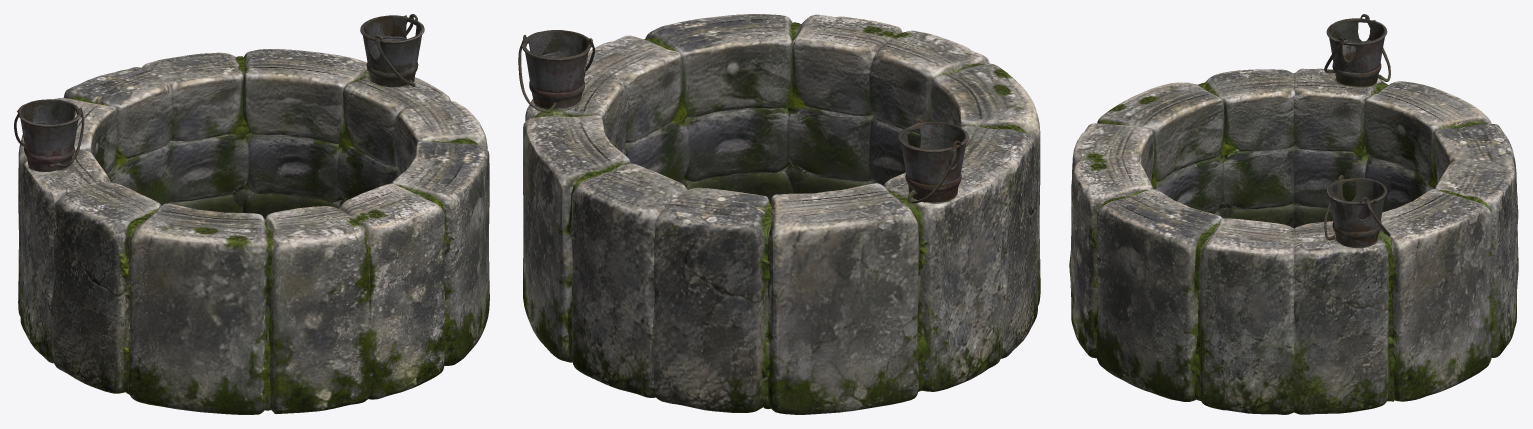
Rendered from stone-well-v1.glb.
The picture shows the model from 3 angles, left to right: view 1: azimuth 30°, elevation 25°; view 2: azimuth 150°, elevation 25°; view 3: azimuth 270°, elevation 25°; orthographic projection. The views are drawn at different scales.
Size of the model in its own units: 1.9 by 1.02 by 1.9.
Materials: 1 (1 with a texture image).
